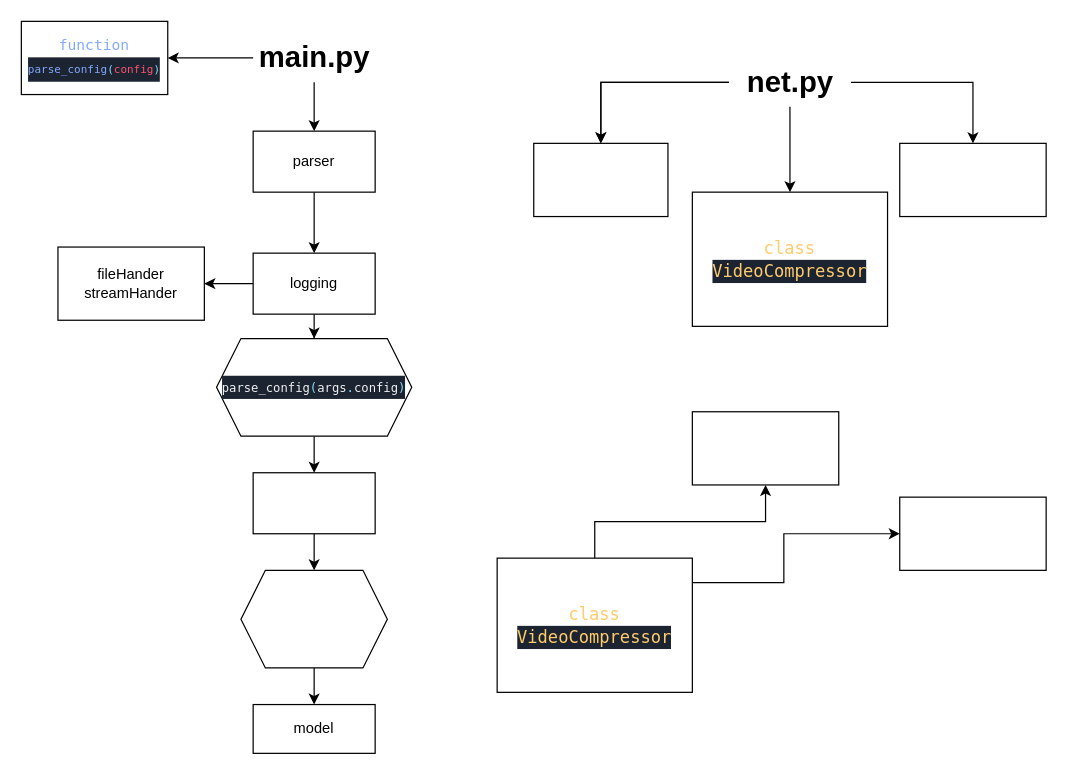
Image size: 1068x775. Some labels were removed from this diagram. The centre of each missing label's shape, as x and y in pixels:
function load_model(): point (972, 179)
function save_model(): point (600, 179)
Save Path: point (313, 503)
VideoCompressor (): point (313, 618)
